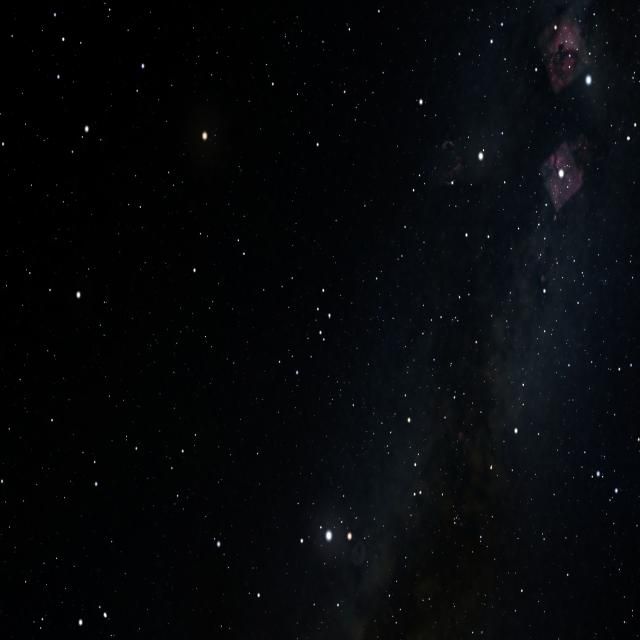Delphinus: (286, 281, 338, 391)
